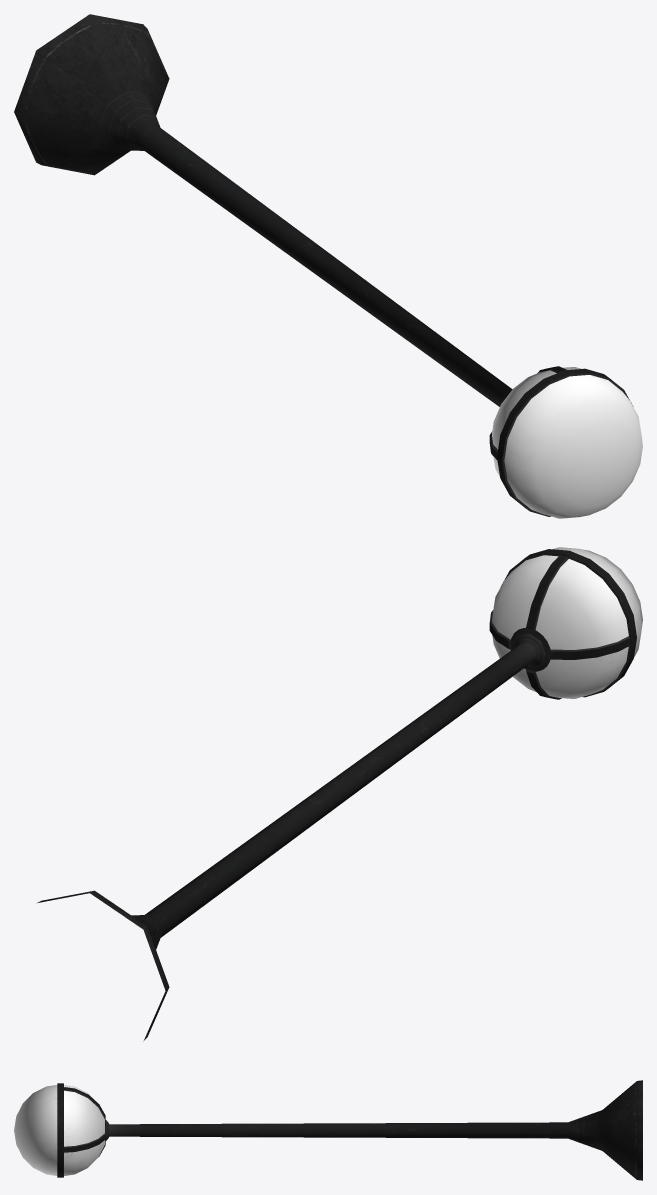
The model's file is LightPole_D.obj.
The picture shows the model from 3 angles, top to bottom: view 1: azimuth 30°, elevation 25°; view 2: azimuth 150°, elevation 25°; view 3: azimuth 270°, elevation 25°; orthographic projection. The views are drawn at different scales.
Parts seen in each view (by area): view 1: LightPole_D_low, LightPole_D_top_low; view 2: LightPole_D_top_low, LightPole_D_low; view 3: LightPole_D_low, LightPole_D_top_low.
Boxes of the visible parts, x1=… form: LightPole_D_low: x1=14, y1=14, x2=512, y2=406; LightPole_D_top_low: x1=489, y1=366, x2=642, y2=518; LightPole_D_top_low: x1=489, y1=547, x2=642, y2=699; LightPole_D_low: x1=37, y1=634, x2=545, y2=1041; LightPole_D_low: x1=105, y1=1080, x2=642, y2=1180; LightPole_D_top_low: x1=14, y1=1083, x2=105, y2=1177.
Size of the model in its own units: 0.2379 by 0.2379 by 1.4.
1 material, 1 textured.
